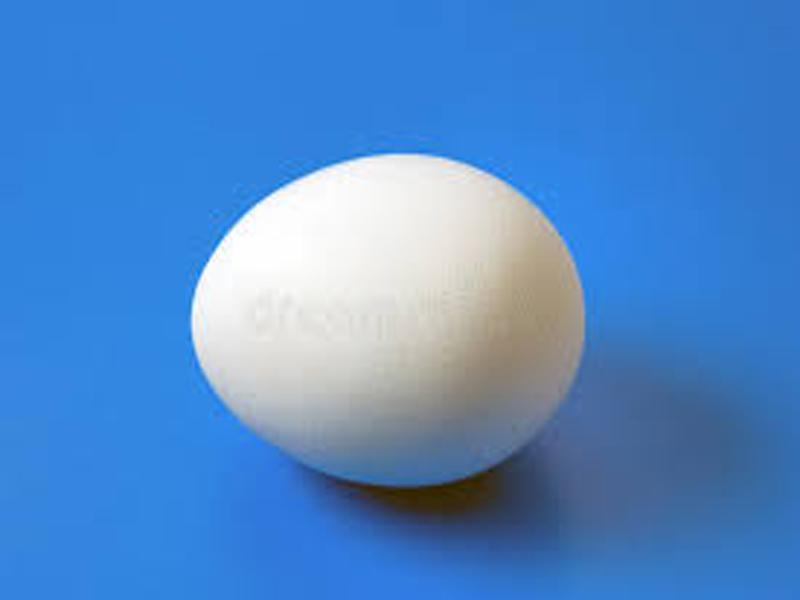Eggs: (186, 154, 588, 489)
